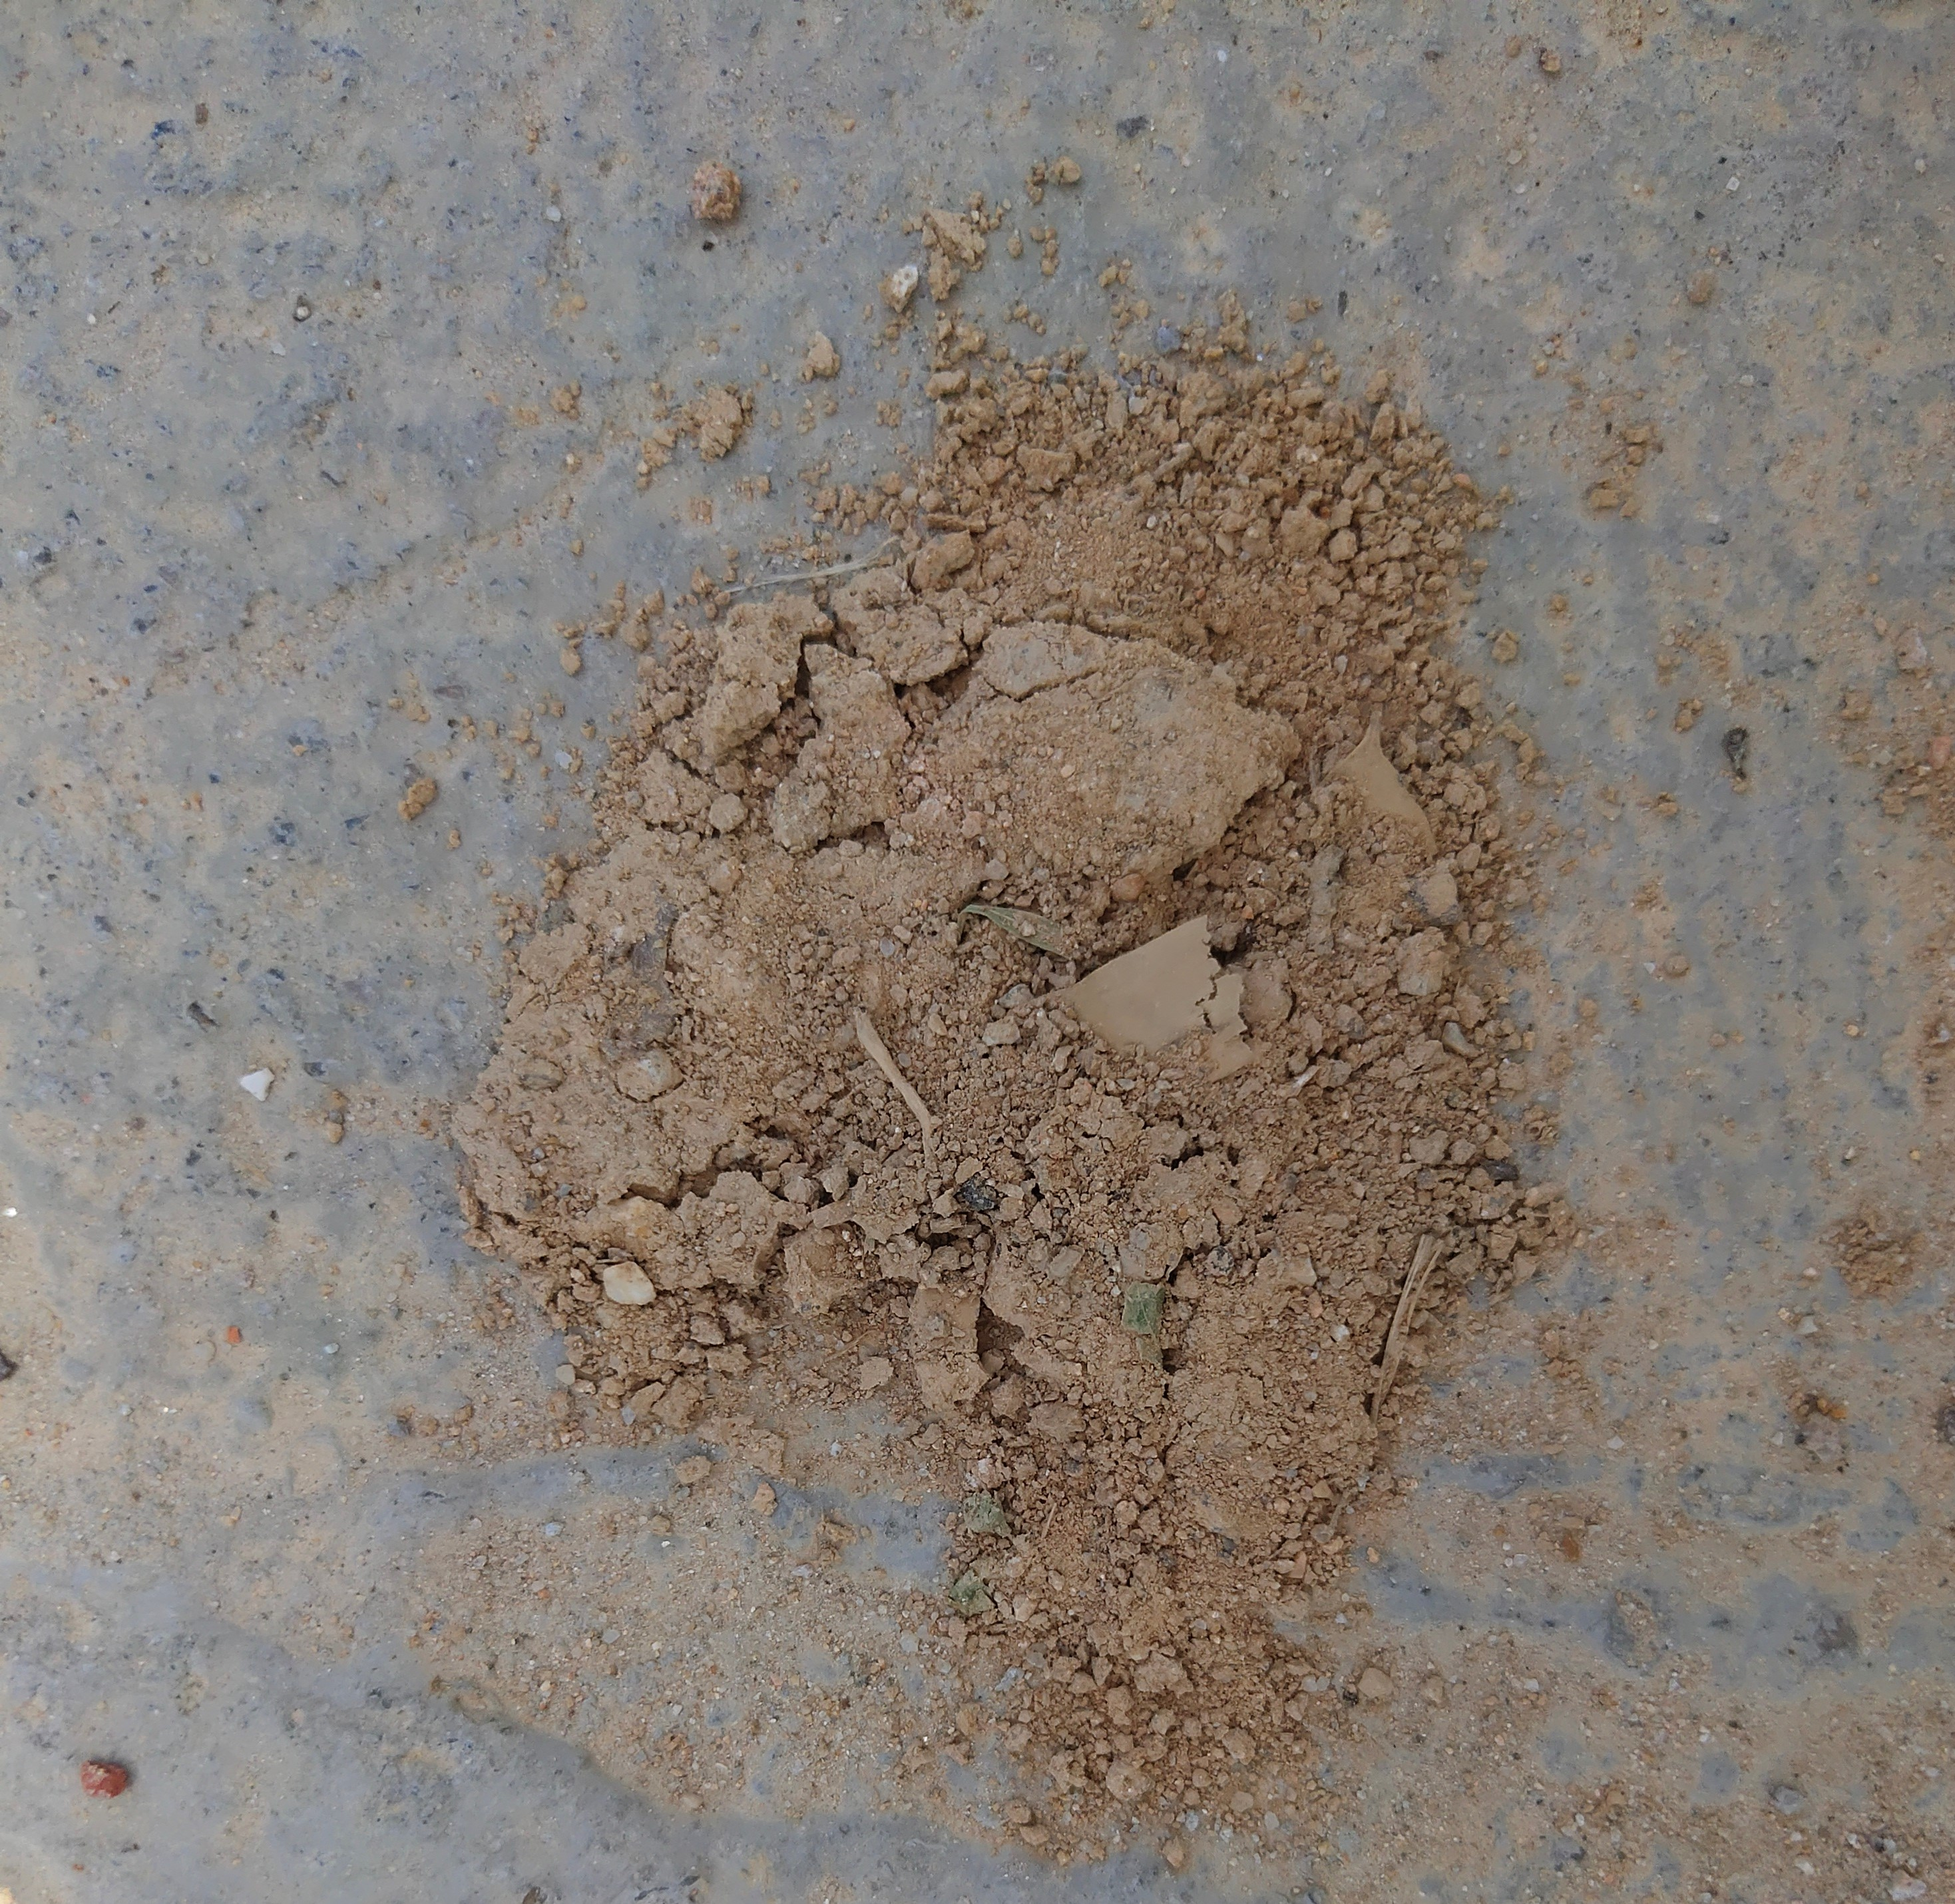ash pile: (447, 152, 1557, 1864)
